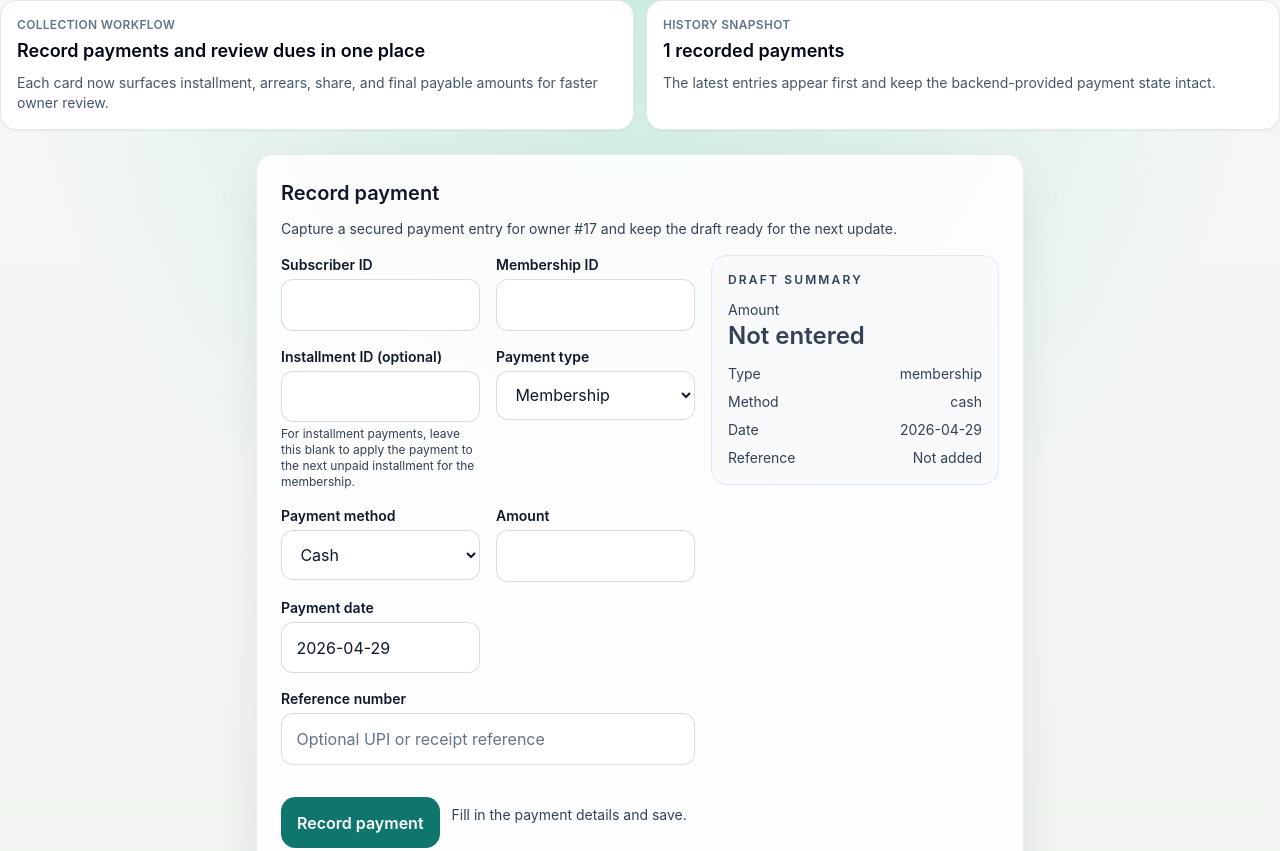
it: adds a newly recorded payment to the history list
The image size is (1280, 851).
Select "Installment" in the dropdown labelled "Payment type" at (596, 395), box [496,371,695,420]
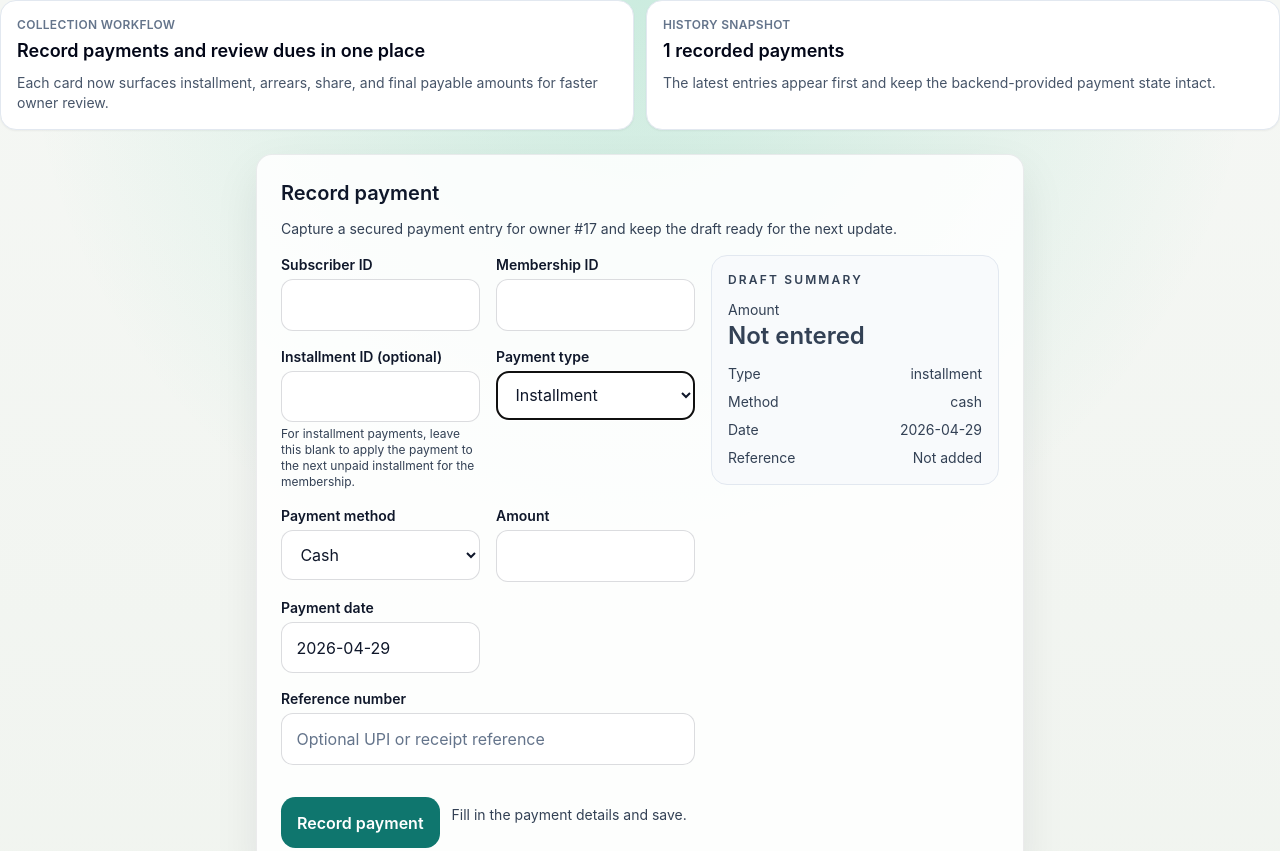
Type "42" into the number field labelled "Subscriber ID".
click(380, 305); type("42")  # box [281,279,480,331]
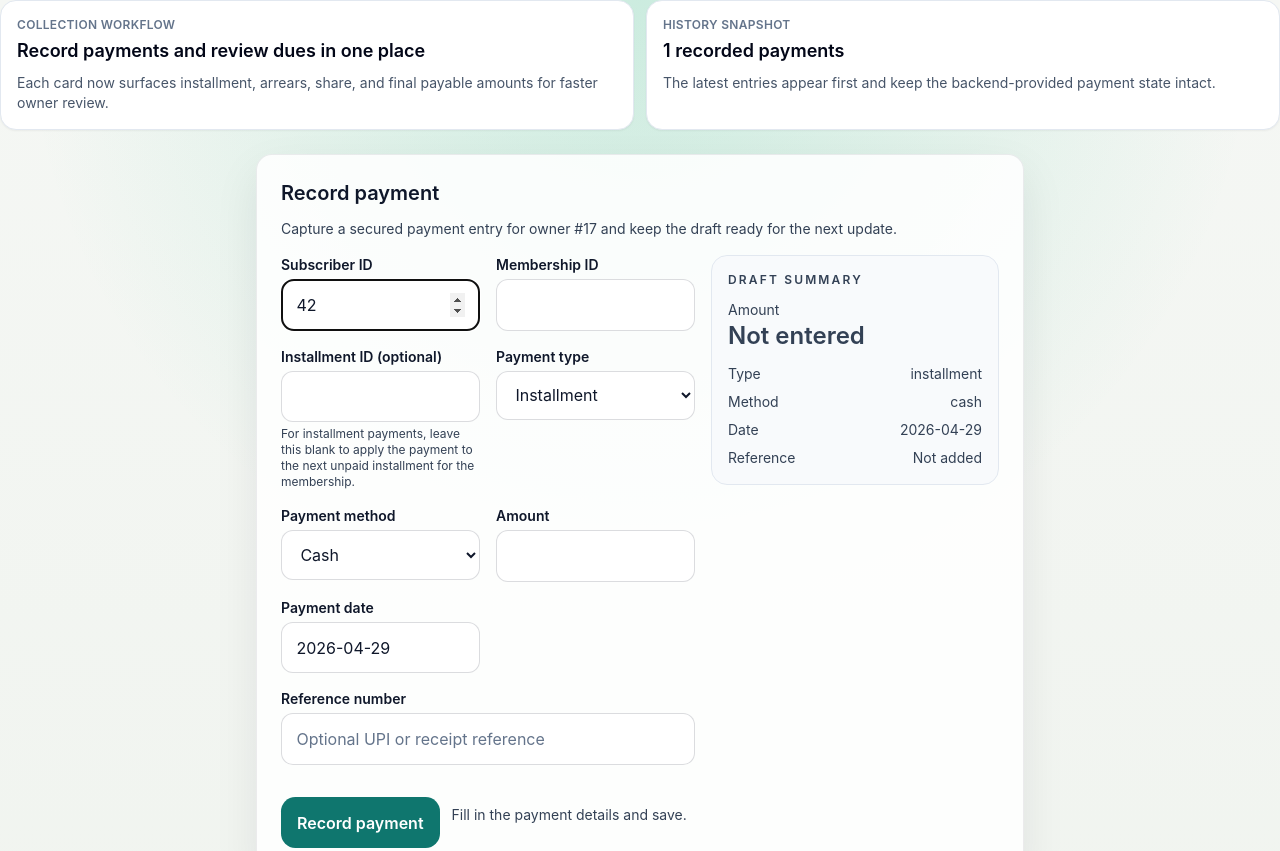
Type "1250" into the number field labelled "Amount".
click(596, 556); type("1250")  # box [496,530,695,582]
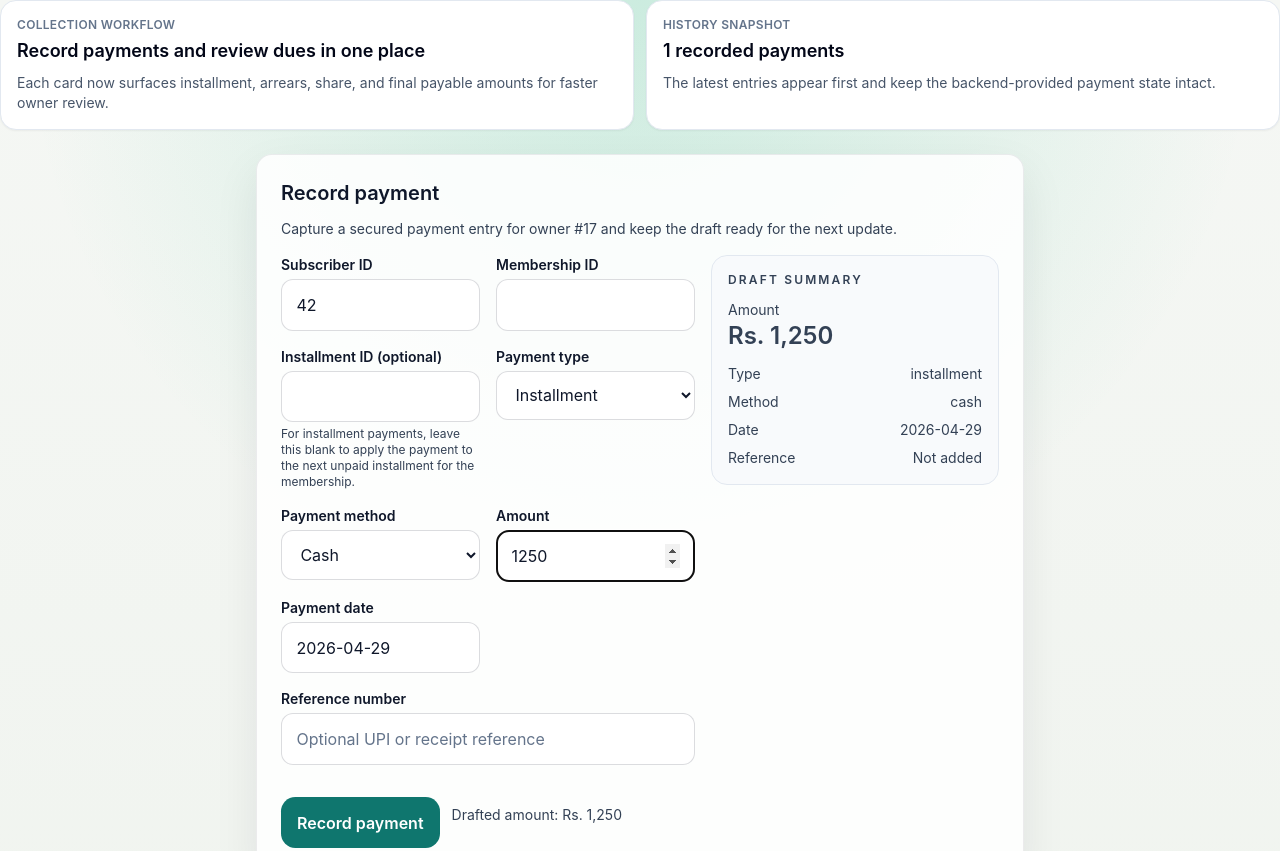
Click the button "Record payment".
click(360, 823)  # box [281,797,440,848]
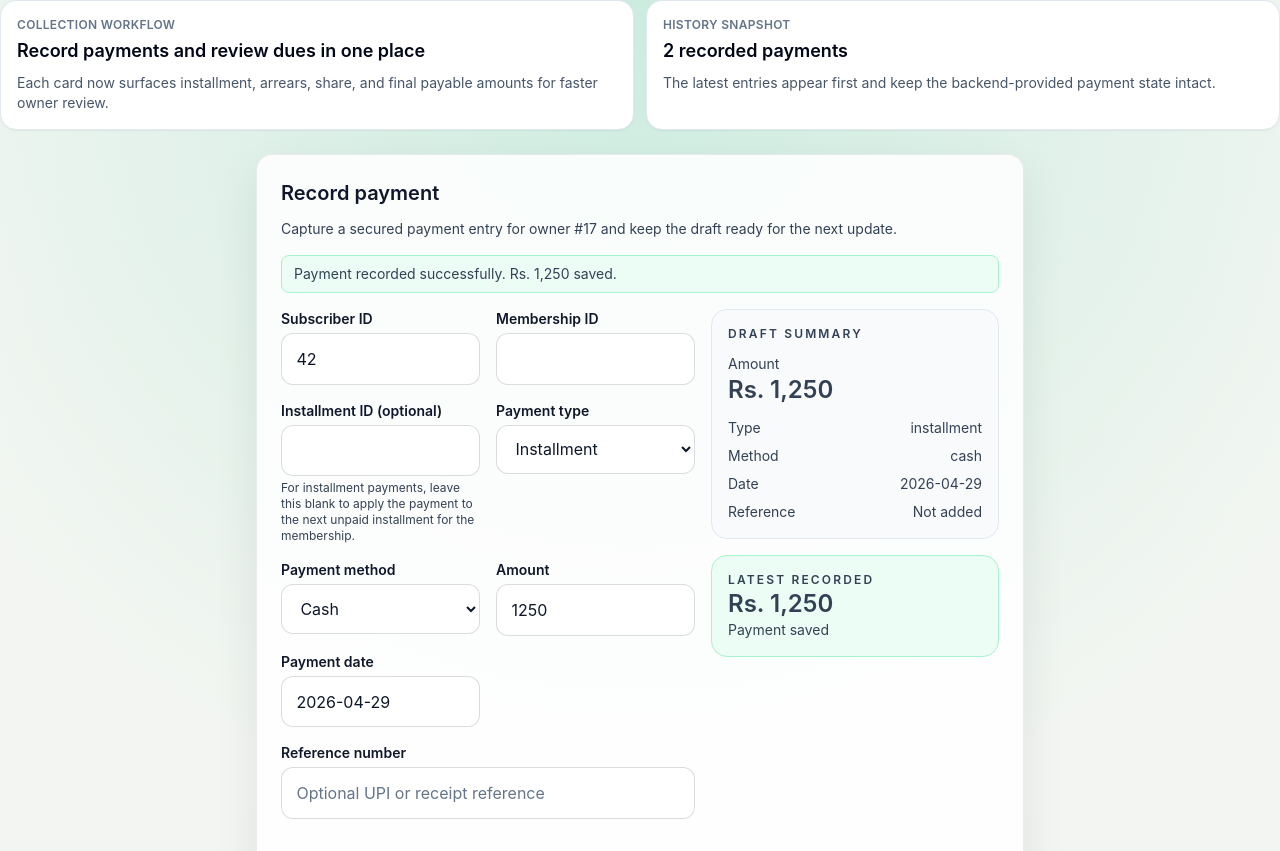
Result: the text "Payment recorded successfully. Rs. 1,250 saved." is shown at [281,255,999,293]
